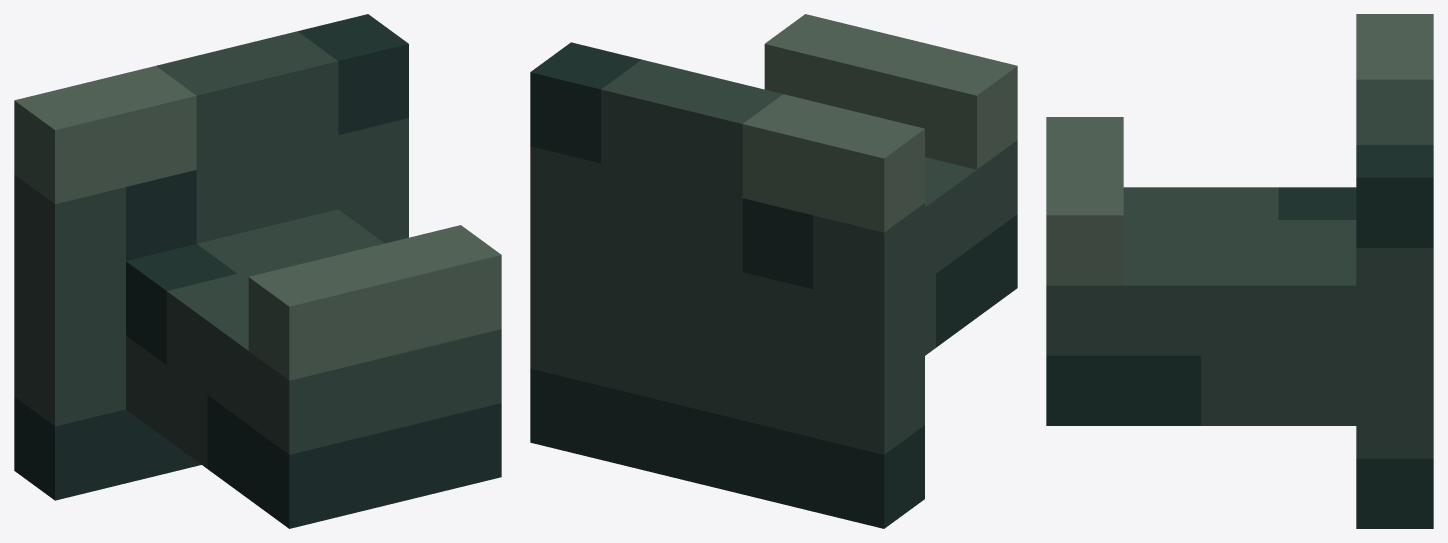
Rendered from Keychain_01.obj.
3 views of the same model, side by side, from view 1: azimuth 30°, elevation 25°; view 2: azimuth 150°, elevation 25°; view 3: azimuth 270°, elevation 25° (orthographic). The views are drawn at different scales.
Visible parts, largest first — view 1: Keychain_01.001; view 2: Keychain_01.001; view 3: Keychain_01.001.
Part boxes in pixels (<box>): Keychain_01.001: <box>14,14,501,528</box>; Keychain_01.001: <box>530,14,1017,528</box>; Keychain_01.001: <box>1046,14,1433,528</box>.
Bounding box in the file's own units: 0.5 × 0.5 × 0.5.
